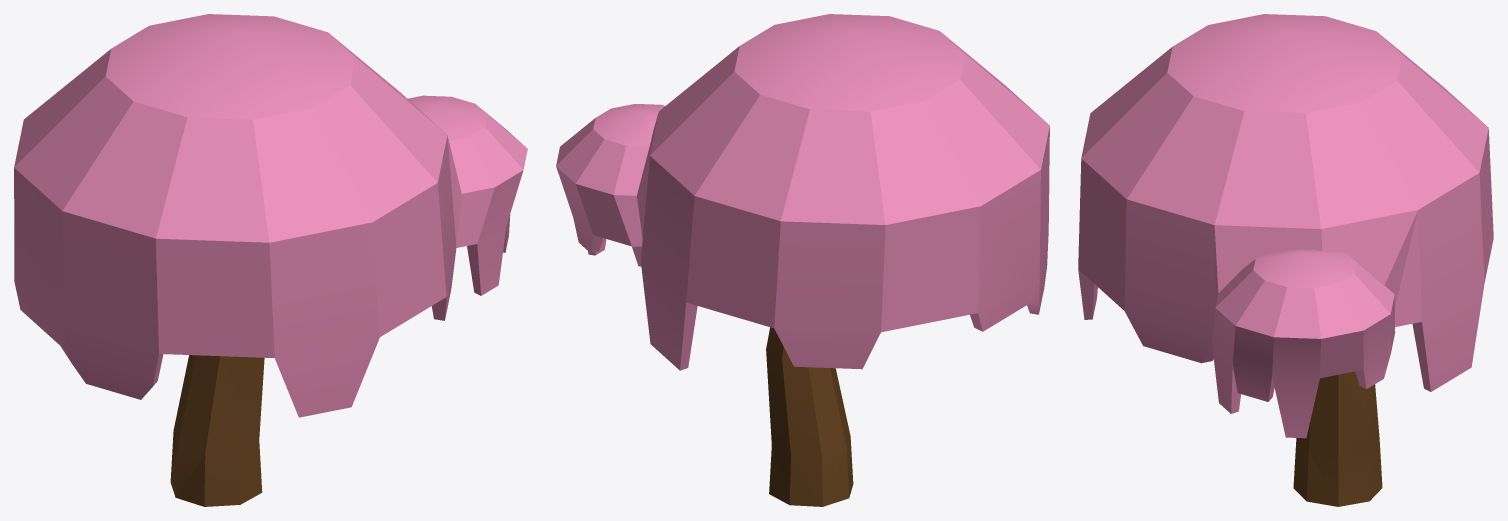
The model's file is treeCherryblossom.dae.
The picture shows the model from 3 angles, left to right: view 1: azimuth 30°, elevation 25°; view 2: azimuth 150°, elevation 25°; view 3: azimuth 270°, elevation 25°; orthographic projection. The views are drawn at different scales.
Parts seen in each view (by area): view 1: Tree_Asian_Cherry_Blossom_02; view 2: Tree_Asian_Cherry_Blossom_02; view 3: Tree_Asian_Cherry_Blossom_02.
Boxes of the visible parts, bbox=[...] form: Tree_Asian_Cherry_Blossom_02: bbox=[14, 14, 527, 506]; Tree_Asian_Cherry_Blossom_02: bbox=[556, 14, 1049, 506]; Tree_Asian_Cherry_Blossom_02: bbox=[1078, 14, 1493, 506].
Size of the model in its own units: 669 by 630 by 531.
